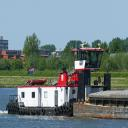tugboat: (7, 44, 112, 119)
